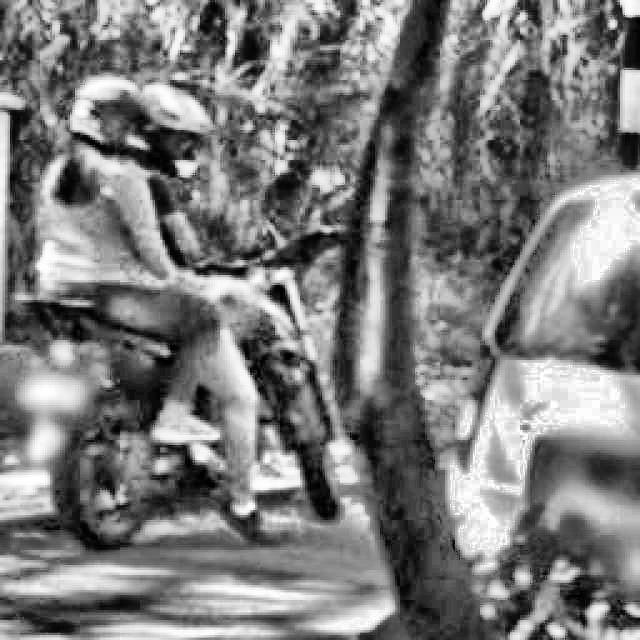motorcycle: (9, 163, 375, 558)
